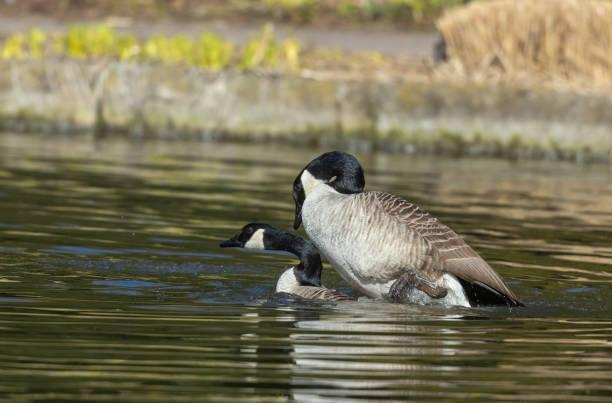Canadian-Goose: (288, 149, 520, 306), (218, 223, 373, 309)
